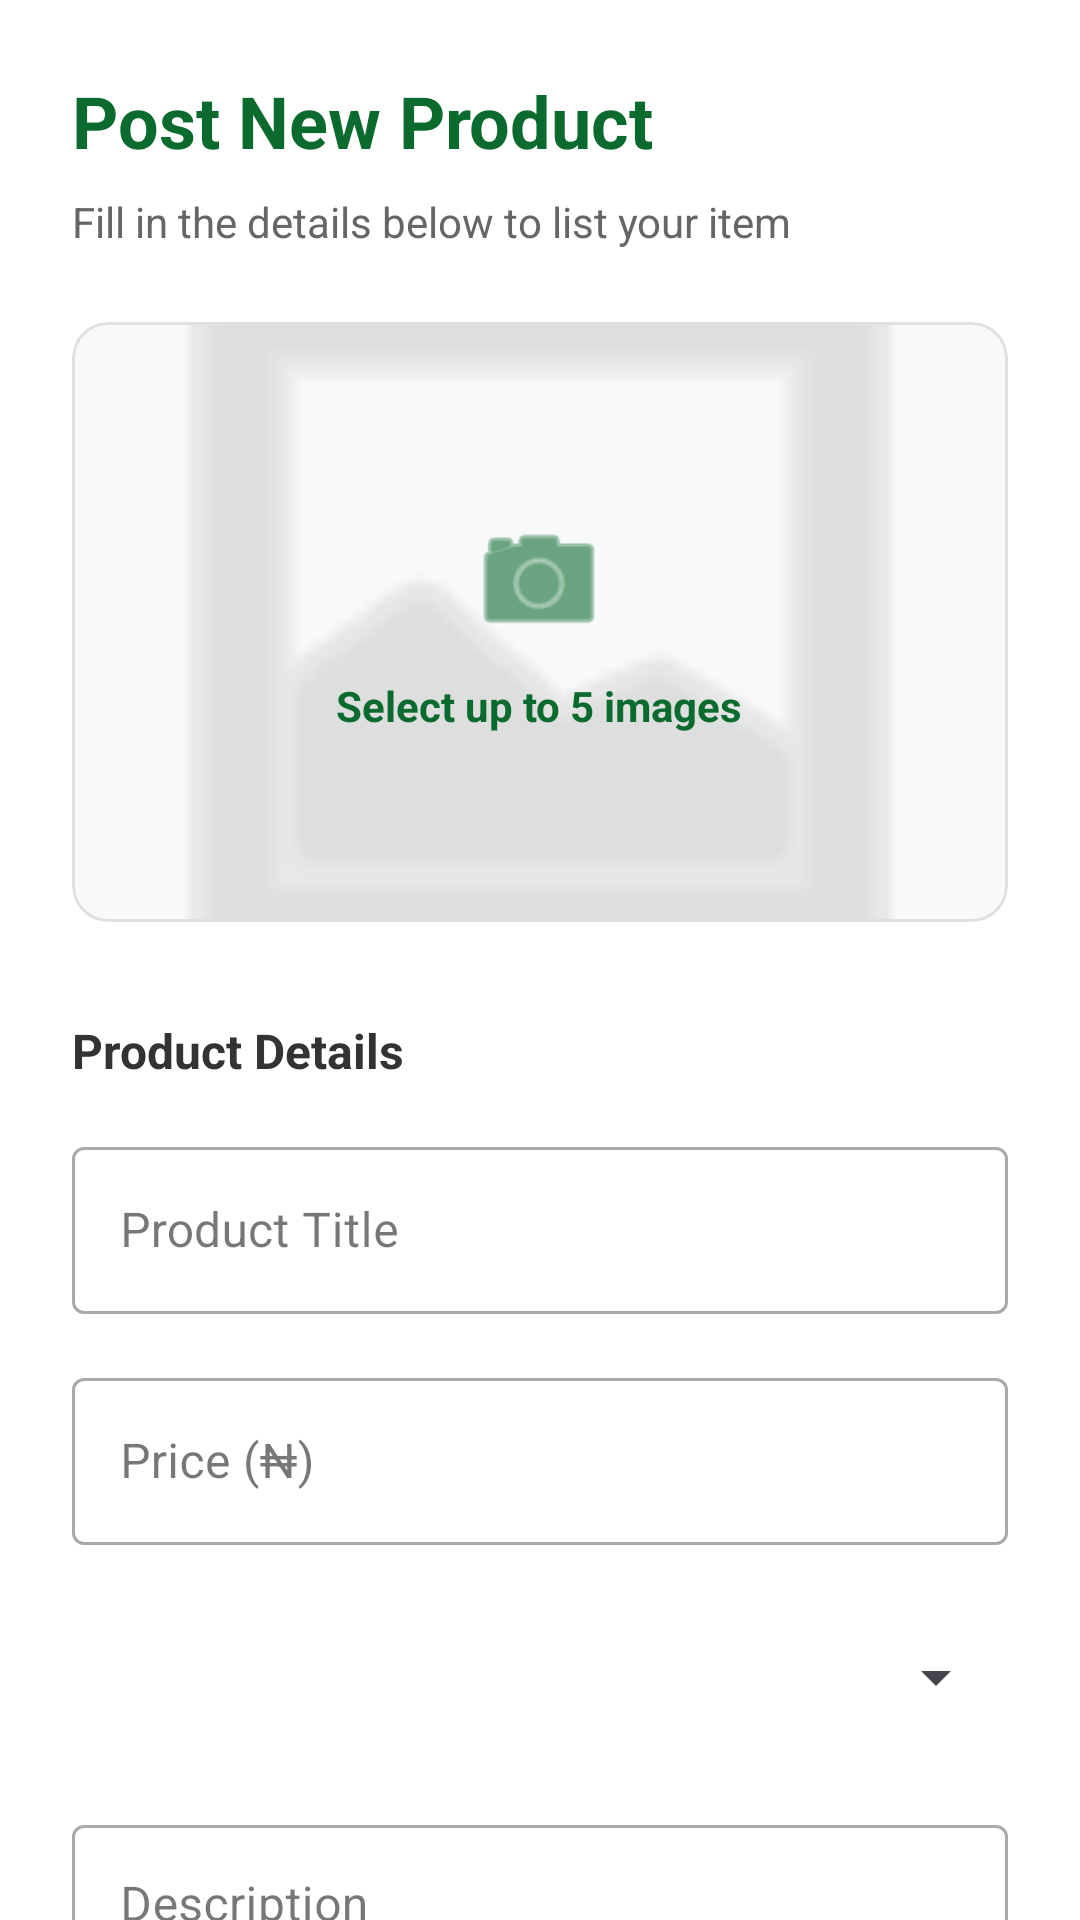

Icons on this 1080x1920 Android screen, each with its box as (x1, y1, x2, y2):
camera: (483, 534, 595, 623)
